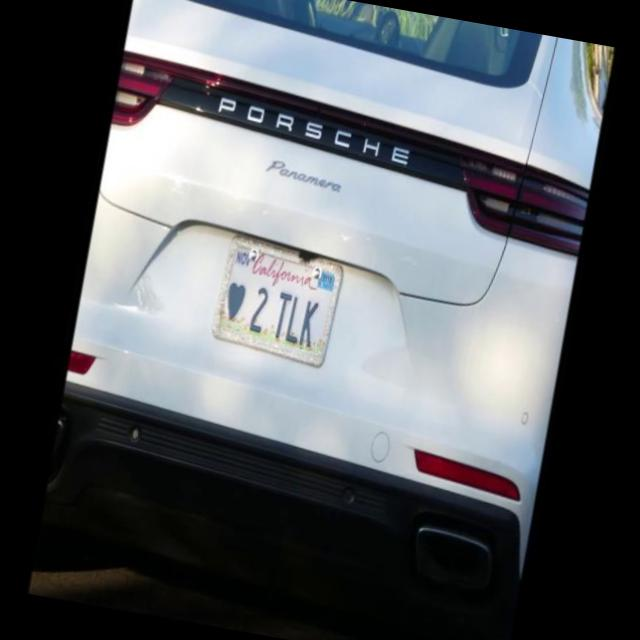LicensePlate: (211, 234, 344, 370)
